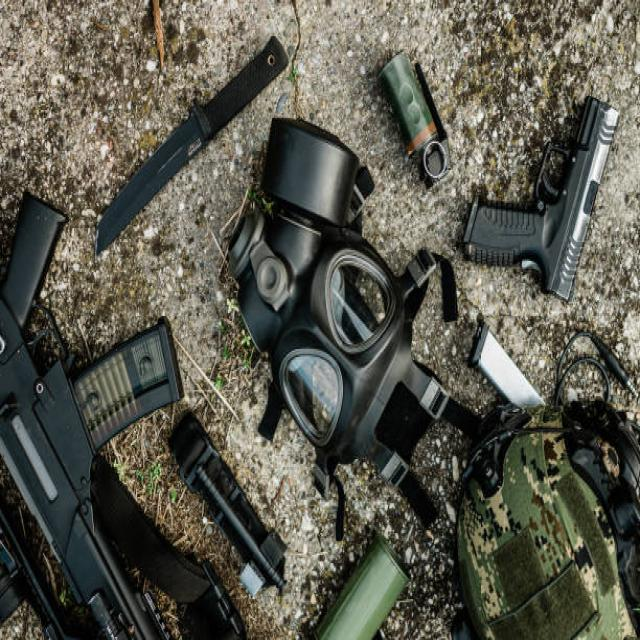grenade: (381, 46, 450, 186)
